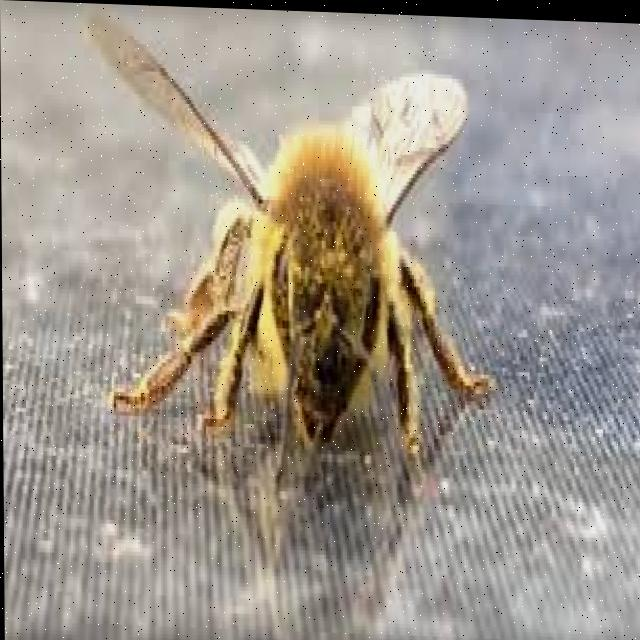Meliponula: (127, 15, 506, 508)
